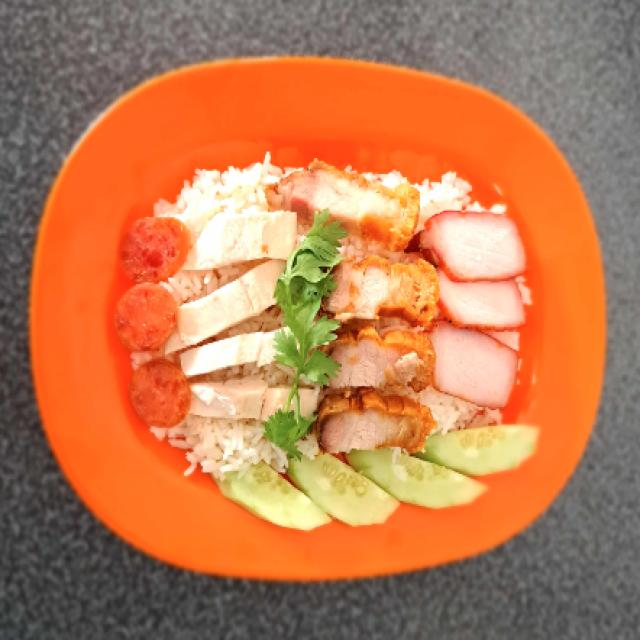Carbohydrate: (157, 160, 518, 468)
Kaow-Crispymoo: (36, 57, 593, 580)
Protein: (121, 169, 525, 450)
Vegetable: (209, 422, 555, 530), (263, 201, 345, 445)
